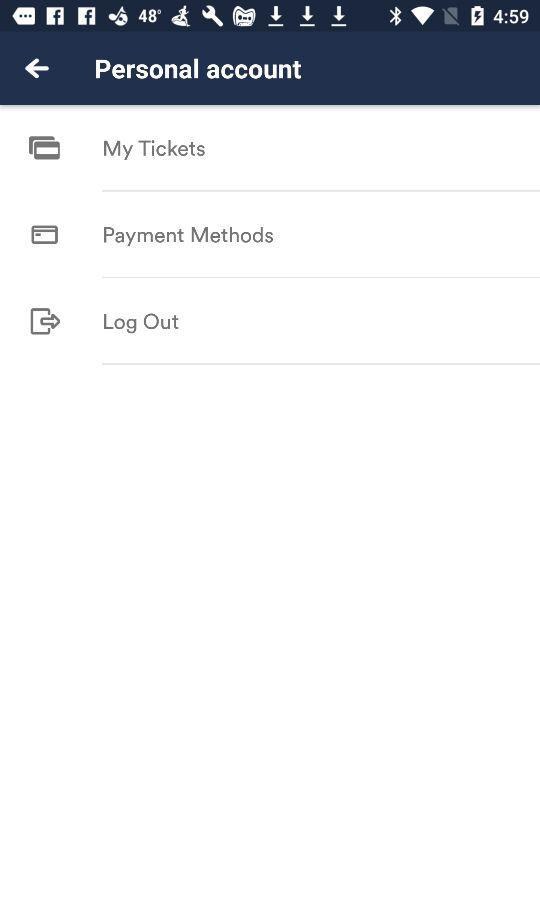Icon: (31, 308, 62, 336), (29, 136, 62, 161), (32, 225, 60, 245), (25, 59, 51, 80)
Text: (95, 61, 302, 81), (104, 226, 274, 247), (104, 140, 206, 162), (104, 312, 180, 334)
Toolbar: (1, 33, 540, 106)
UpperTaskBar: (1, 1, 540, 33)
